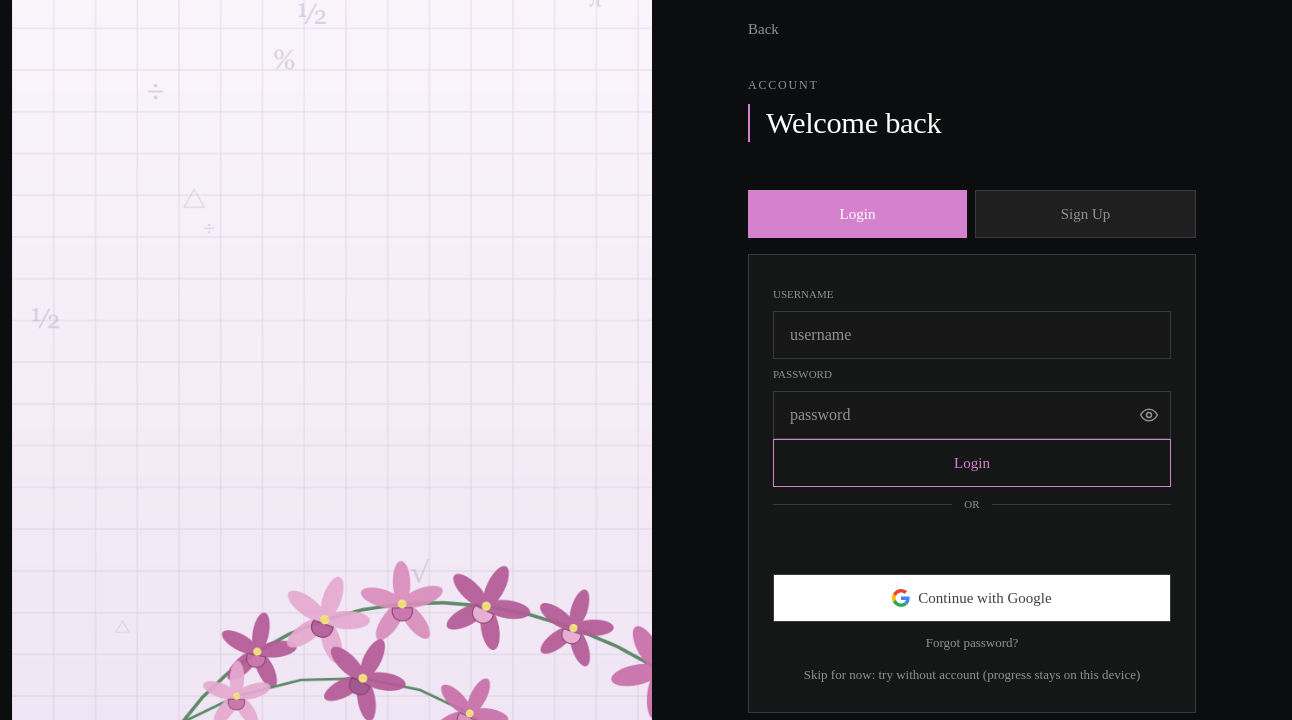
LoginPage › rejects a weak signup password with the policy message
Click the button "Sign Up" at coordinates (1086, 214), box [975,190,1196,238]
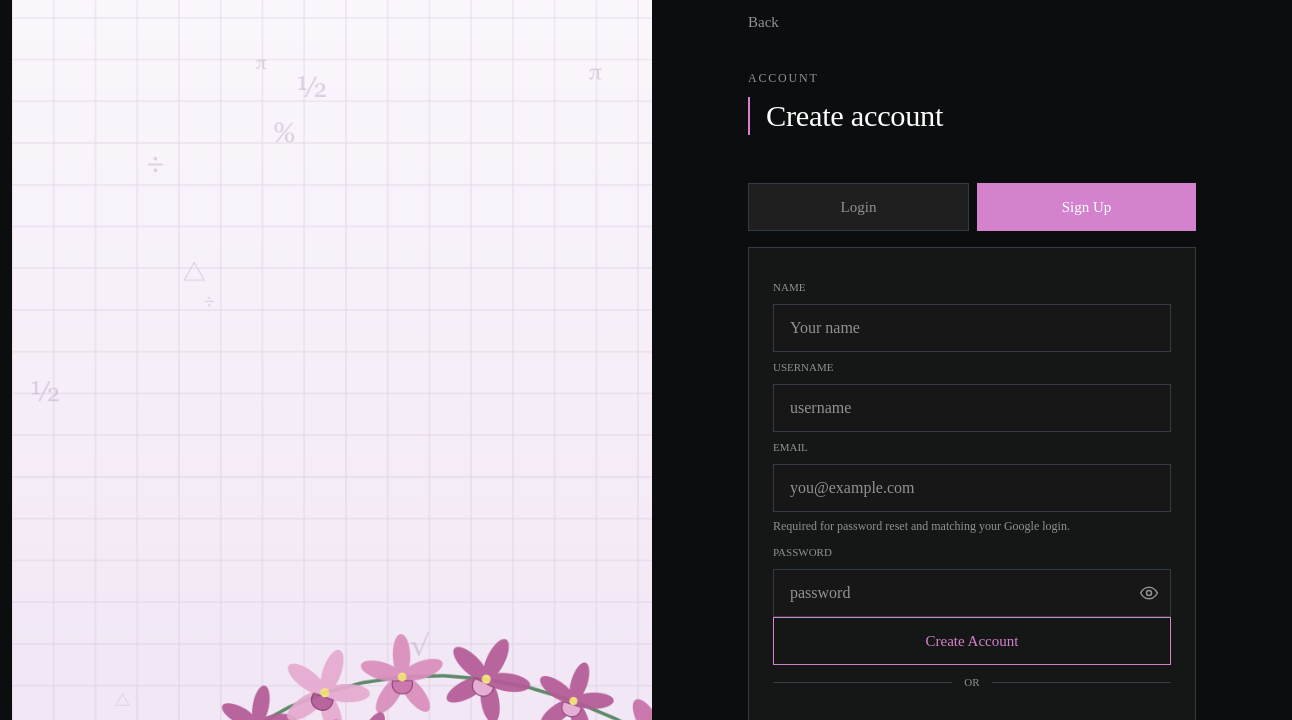
Type "Ada" into the field labelled "Name" at coordinates (972, 328), box [773,304,1171,352]
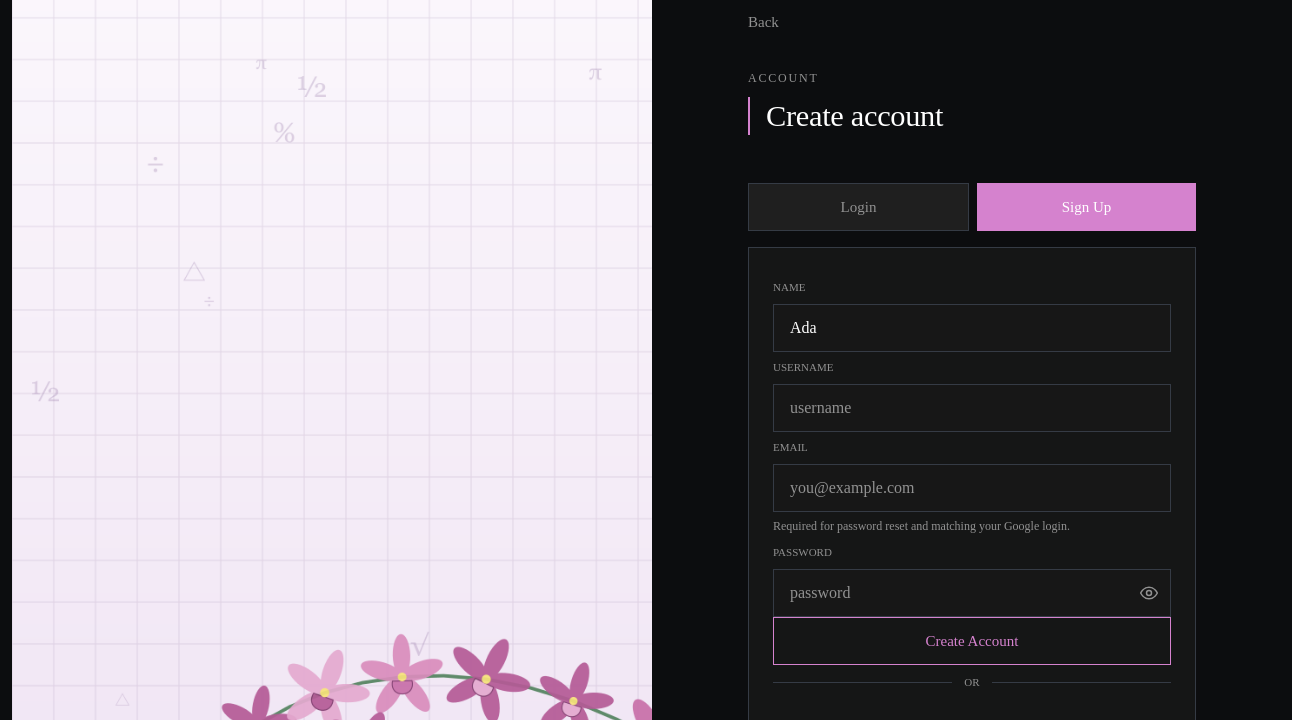
Type "ada" into the field labelled "Username" at coordinates (972, 408), box [773,384,1171,432]
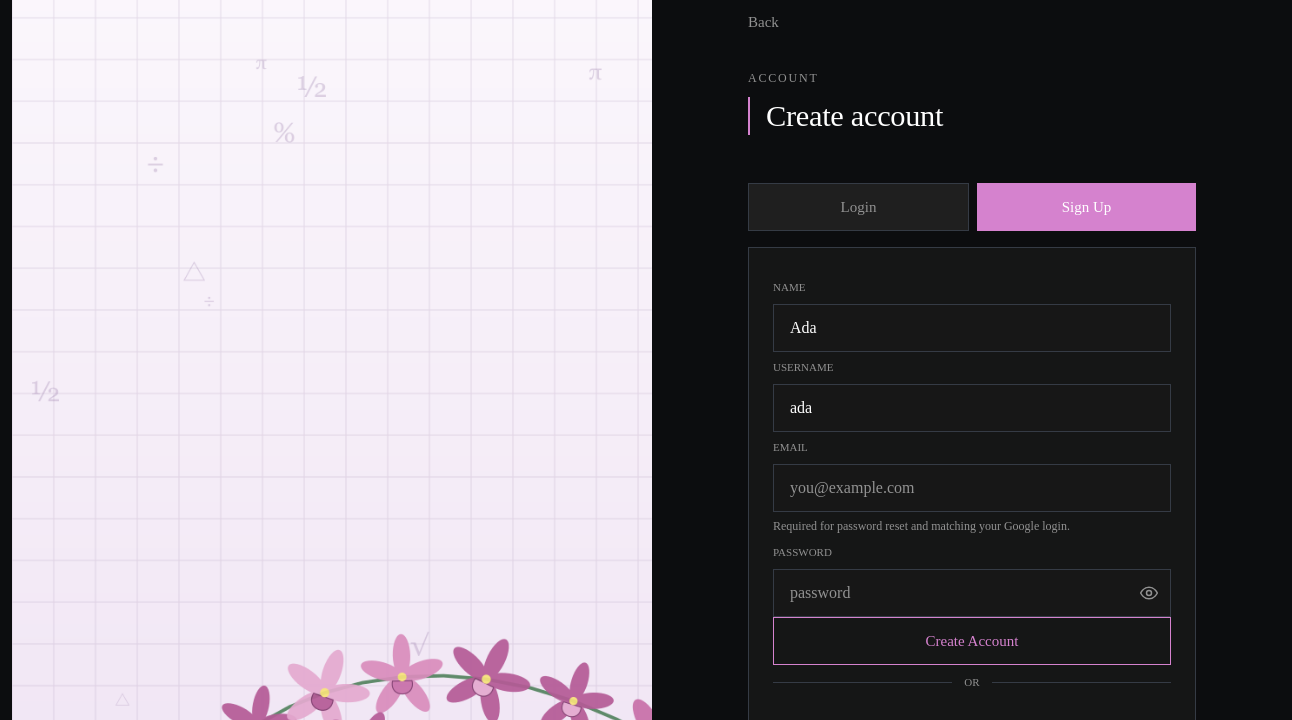
Type "ada@example.com" into the field labelled "Email" at coordinates (972, 488), box [773,464,1171,512]
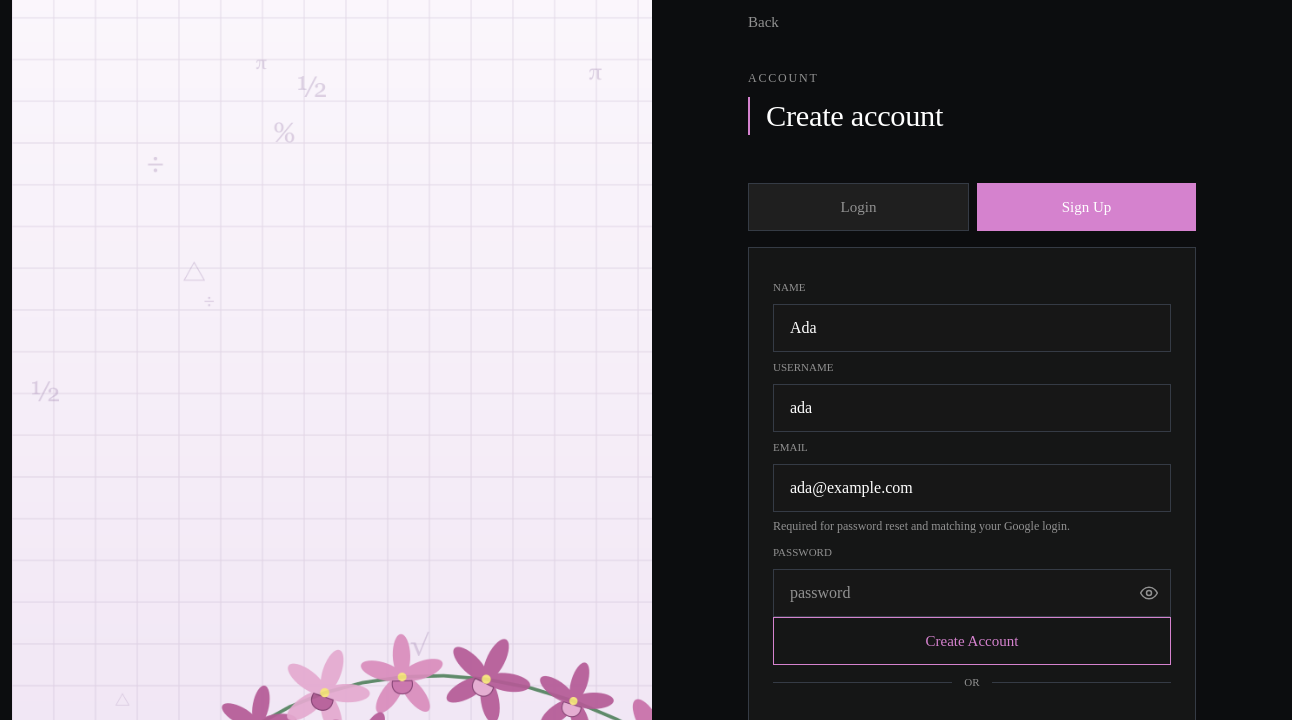
Type "abc" into the password field labelled "Password" at coordinates (972, 593), box [773,569,1171,617]
(page scrolled)
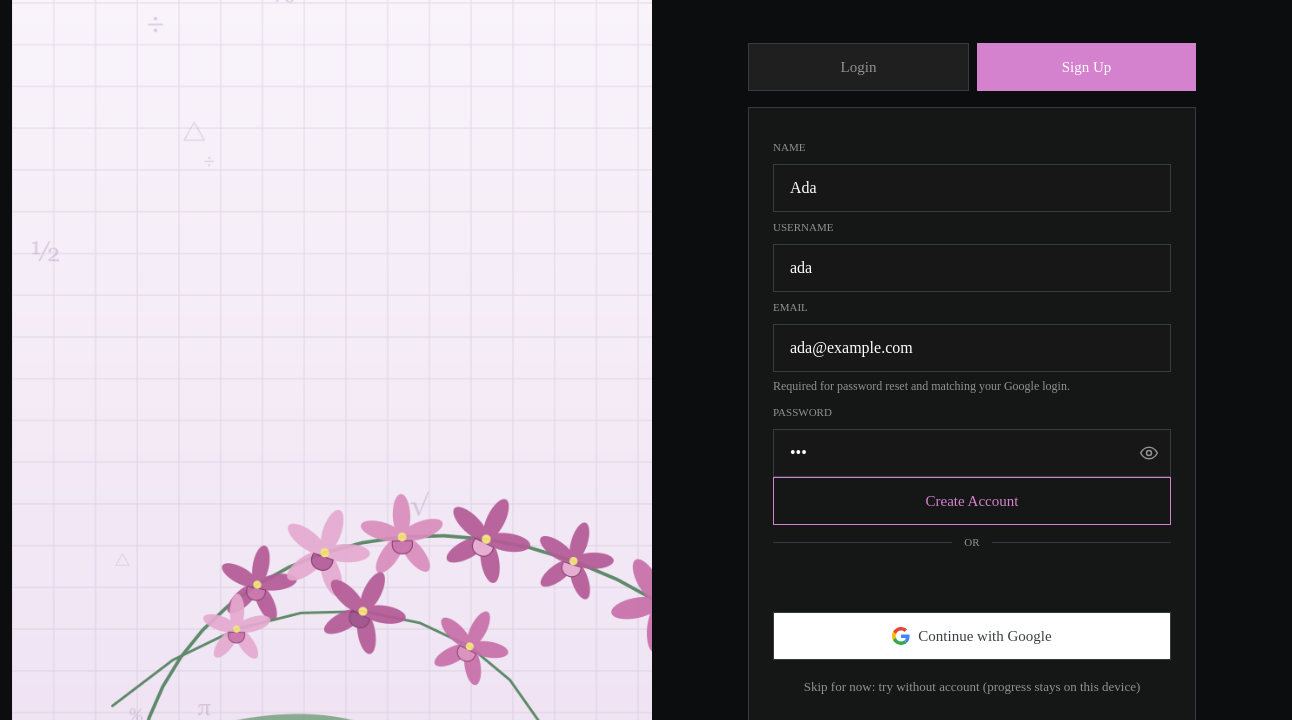
Submit the form named "Create Account", box [773,132,1171,700]
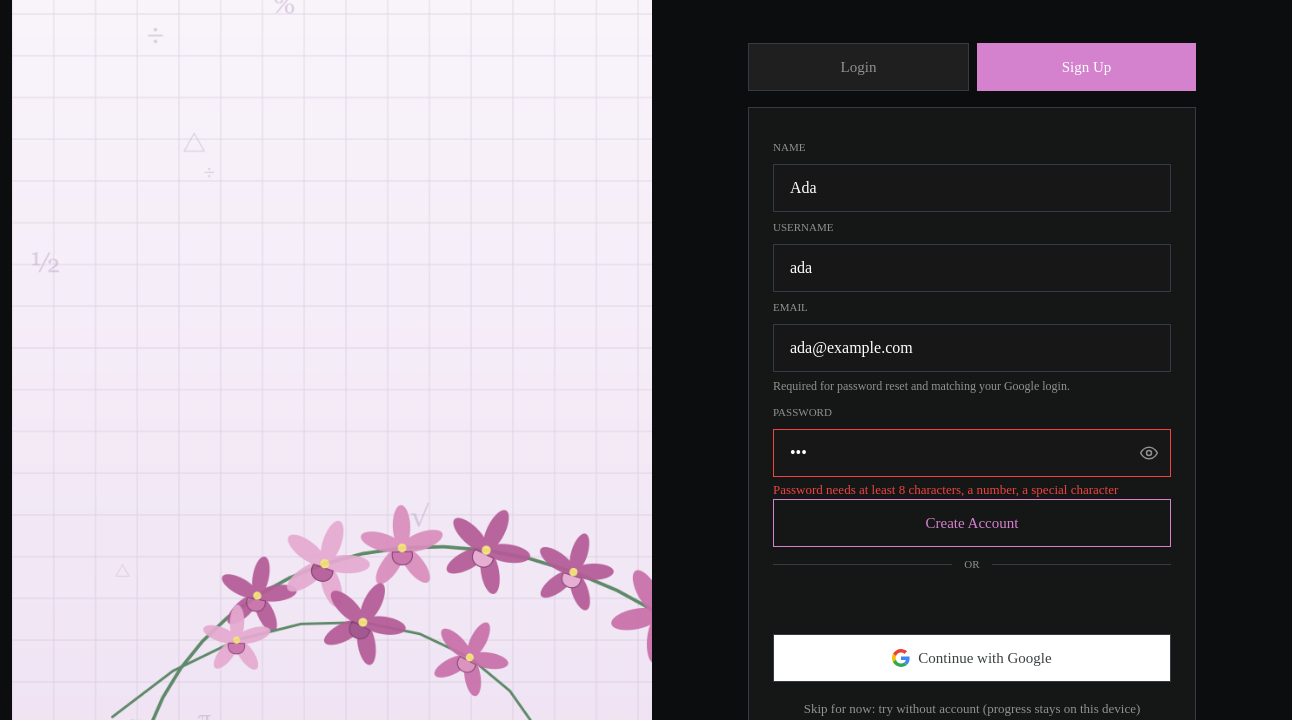
Expected: the text "Password needs at least 8 characters, a number, a special character" is shown, [773,481,1171,499]
